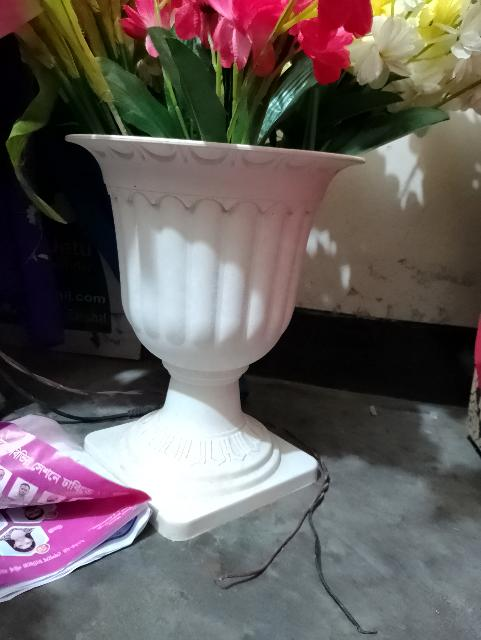hardplastic: (37, 106, 380, 559)
